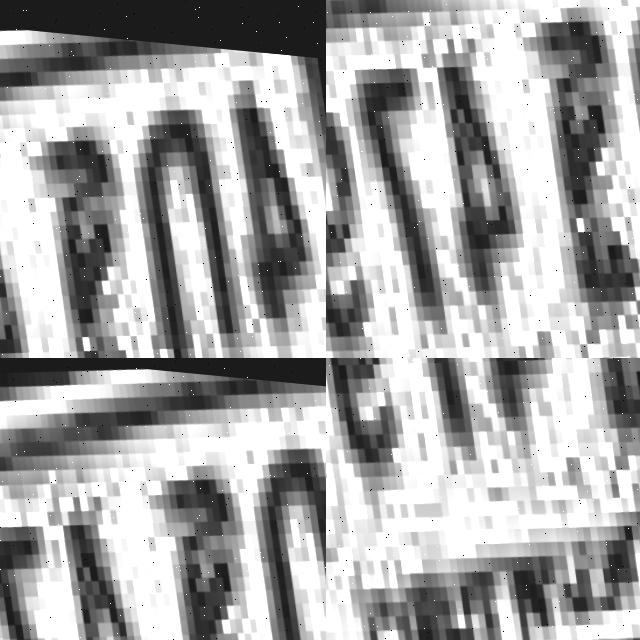license-plate: (326, 0, 640, 358), (326, 358, 640, 640)
